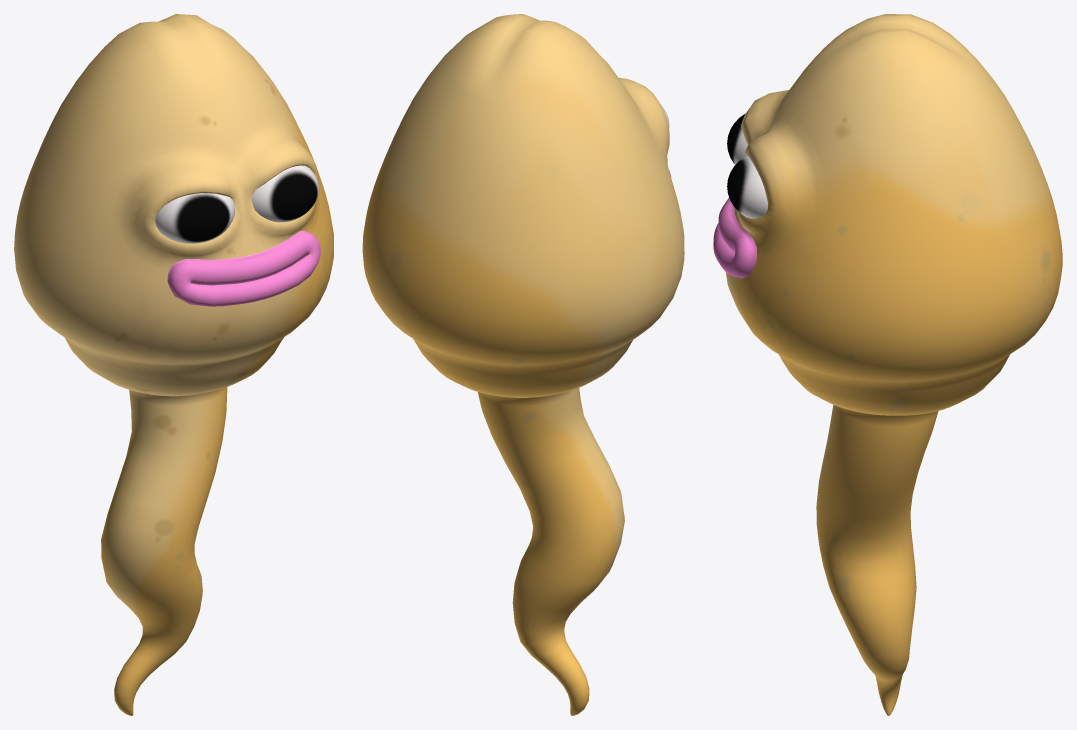
File: sperm.glb
3 views of the same model, side by side, from view 1: azimuth 30°, elevation 25°; view 2: azimuth 150°, elevation 25°; view 3: azimuth 270°, elevation 25° (orthographic). The views are drawn at different scales.
Parts seen in each view (by area): view 1: Sperm; view 2: Sperm; view 3: Sperm.
Part boxes in pixels (x1=…): Sperm: x1=14, y1=14, x2=333, y2=715; Sperm: x1=362, y1=14, x2=684, y2=715; Sperm: x1=713, y1=14, x2=1062, y2=715.
Bounding box in the file's own units: 1.52 × 3.56 × 1.58.
Materials: 3 (1 with a texture image).
